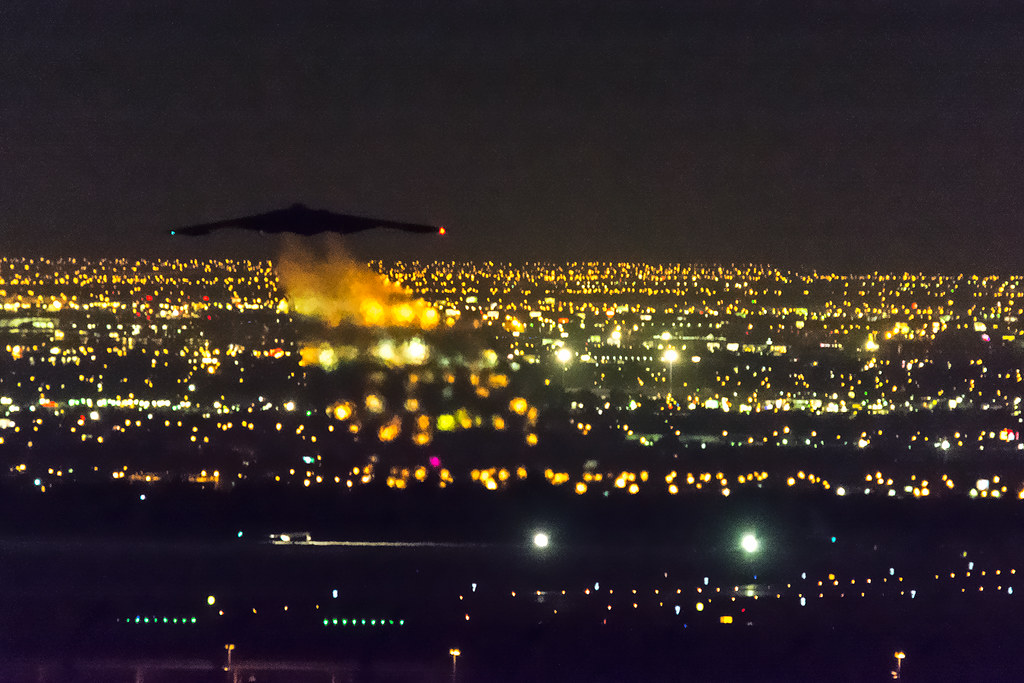B2: (163, 202, 449, 237)
